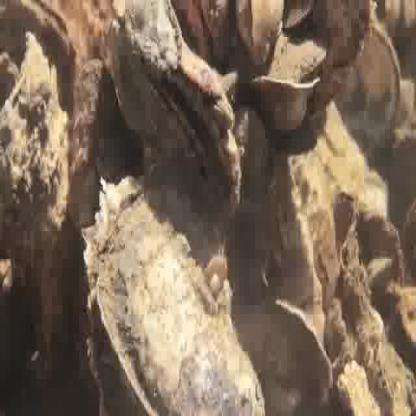Oyster- Indeterminate: (111, 18, 241, 216)
Oyster-Closed: (82, 167, 267, 416), (0, 37, 72, 264), (67, 58, 142, 230), (281, 302, 335, 398), (358, 19, 400, 132), (175, 0, 238, 72), (124, 0, 184, 68), (266, 23, 329, 82), (235, 0, 284, 55), (338, 362, 382, 416), (365, 256, 394, 304), (284, 0, 322, 27), (402, 285, 416, 346), (0, 261, 15, 306)
